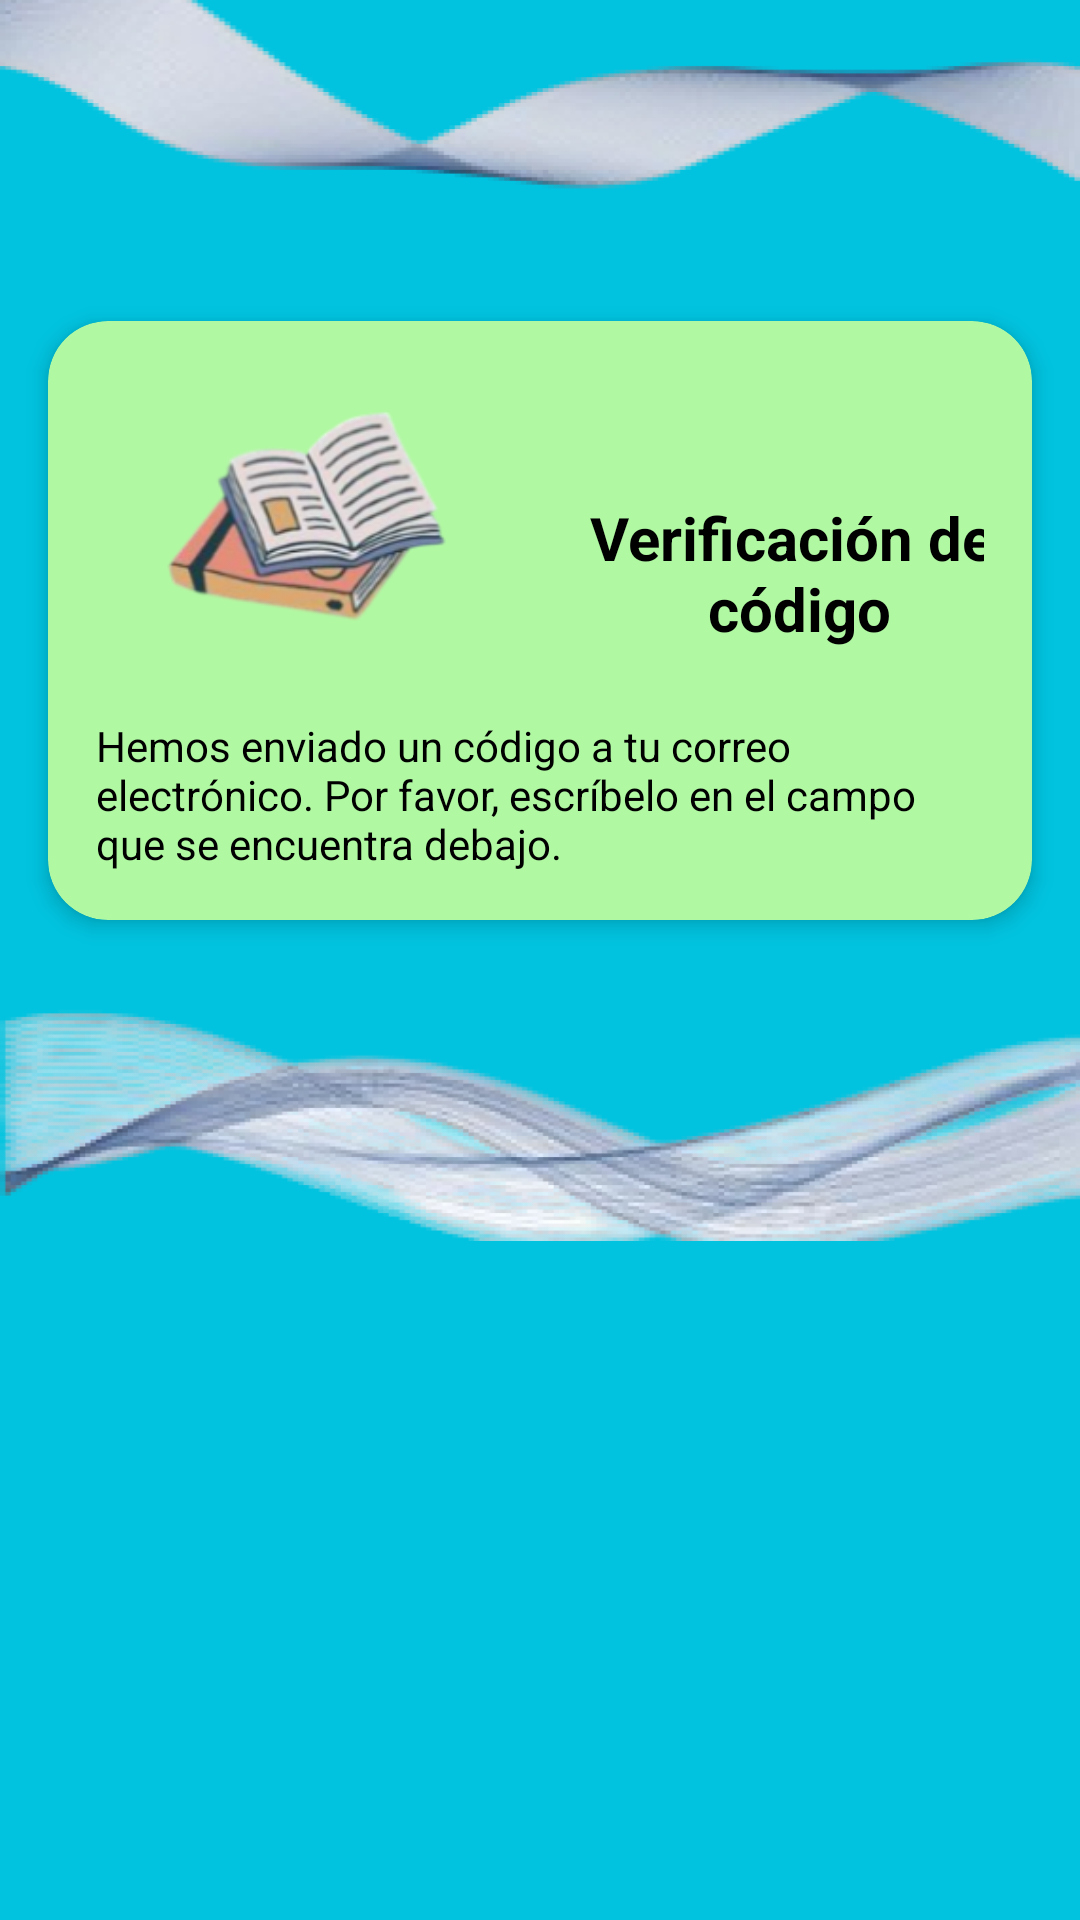

Named icons in this screenshot (1080 x 1920) and their centers, (x,y):
libro: (307,516)
